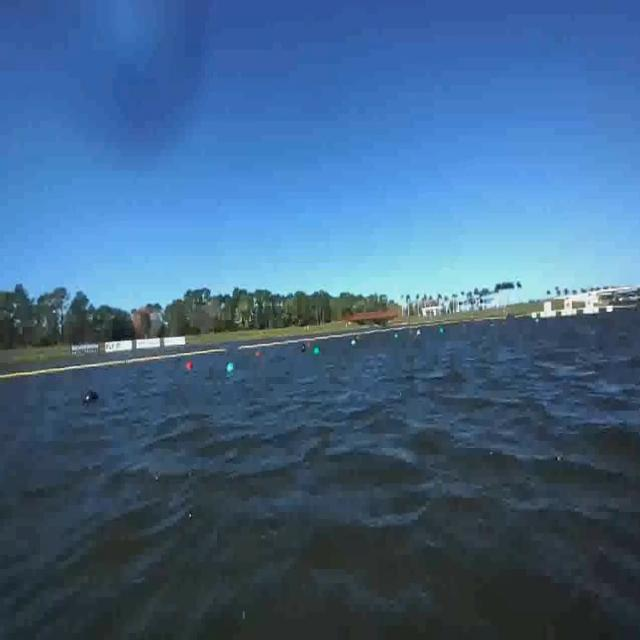black-buoy: (84, 388, 101, 404)
green-buoy: (225, 361, 235, 373), (314, 348, 320, 357)
red-buoy: (186, 360, 192, 370)
